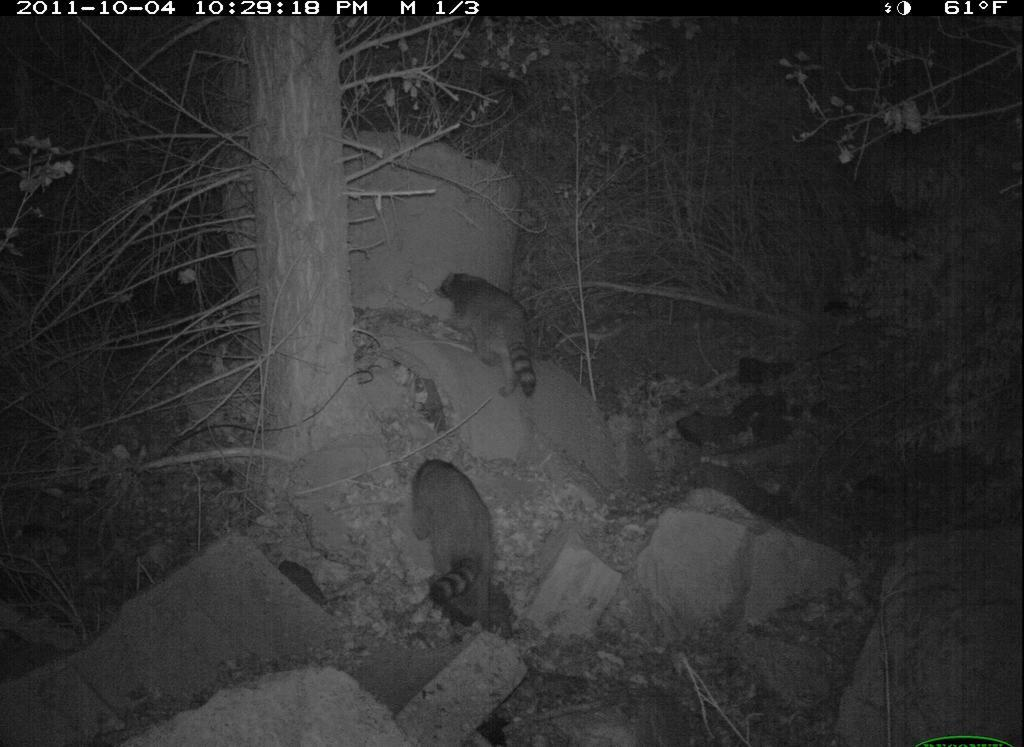raccoon: (402, 449, 506, 646), (428, 263, 547, 417)
